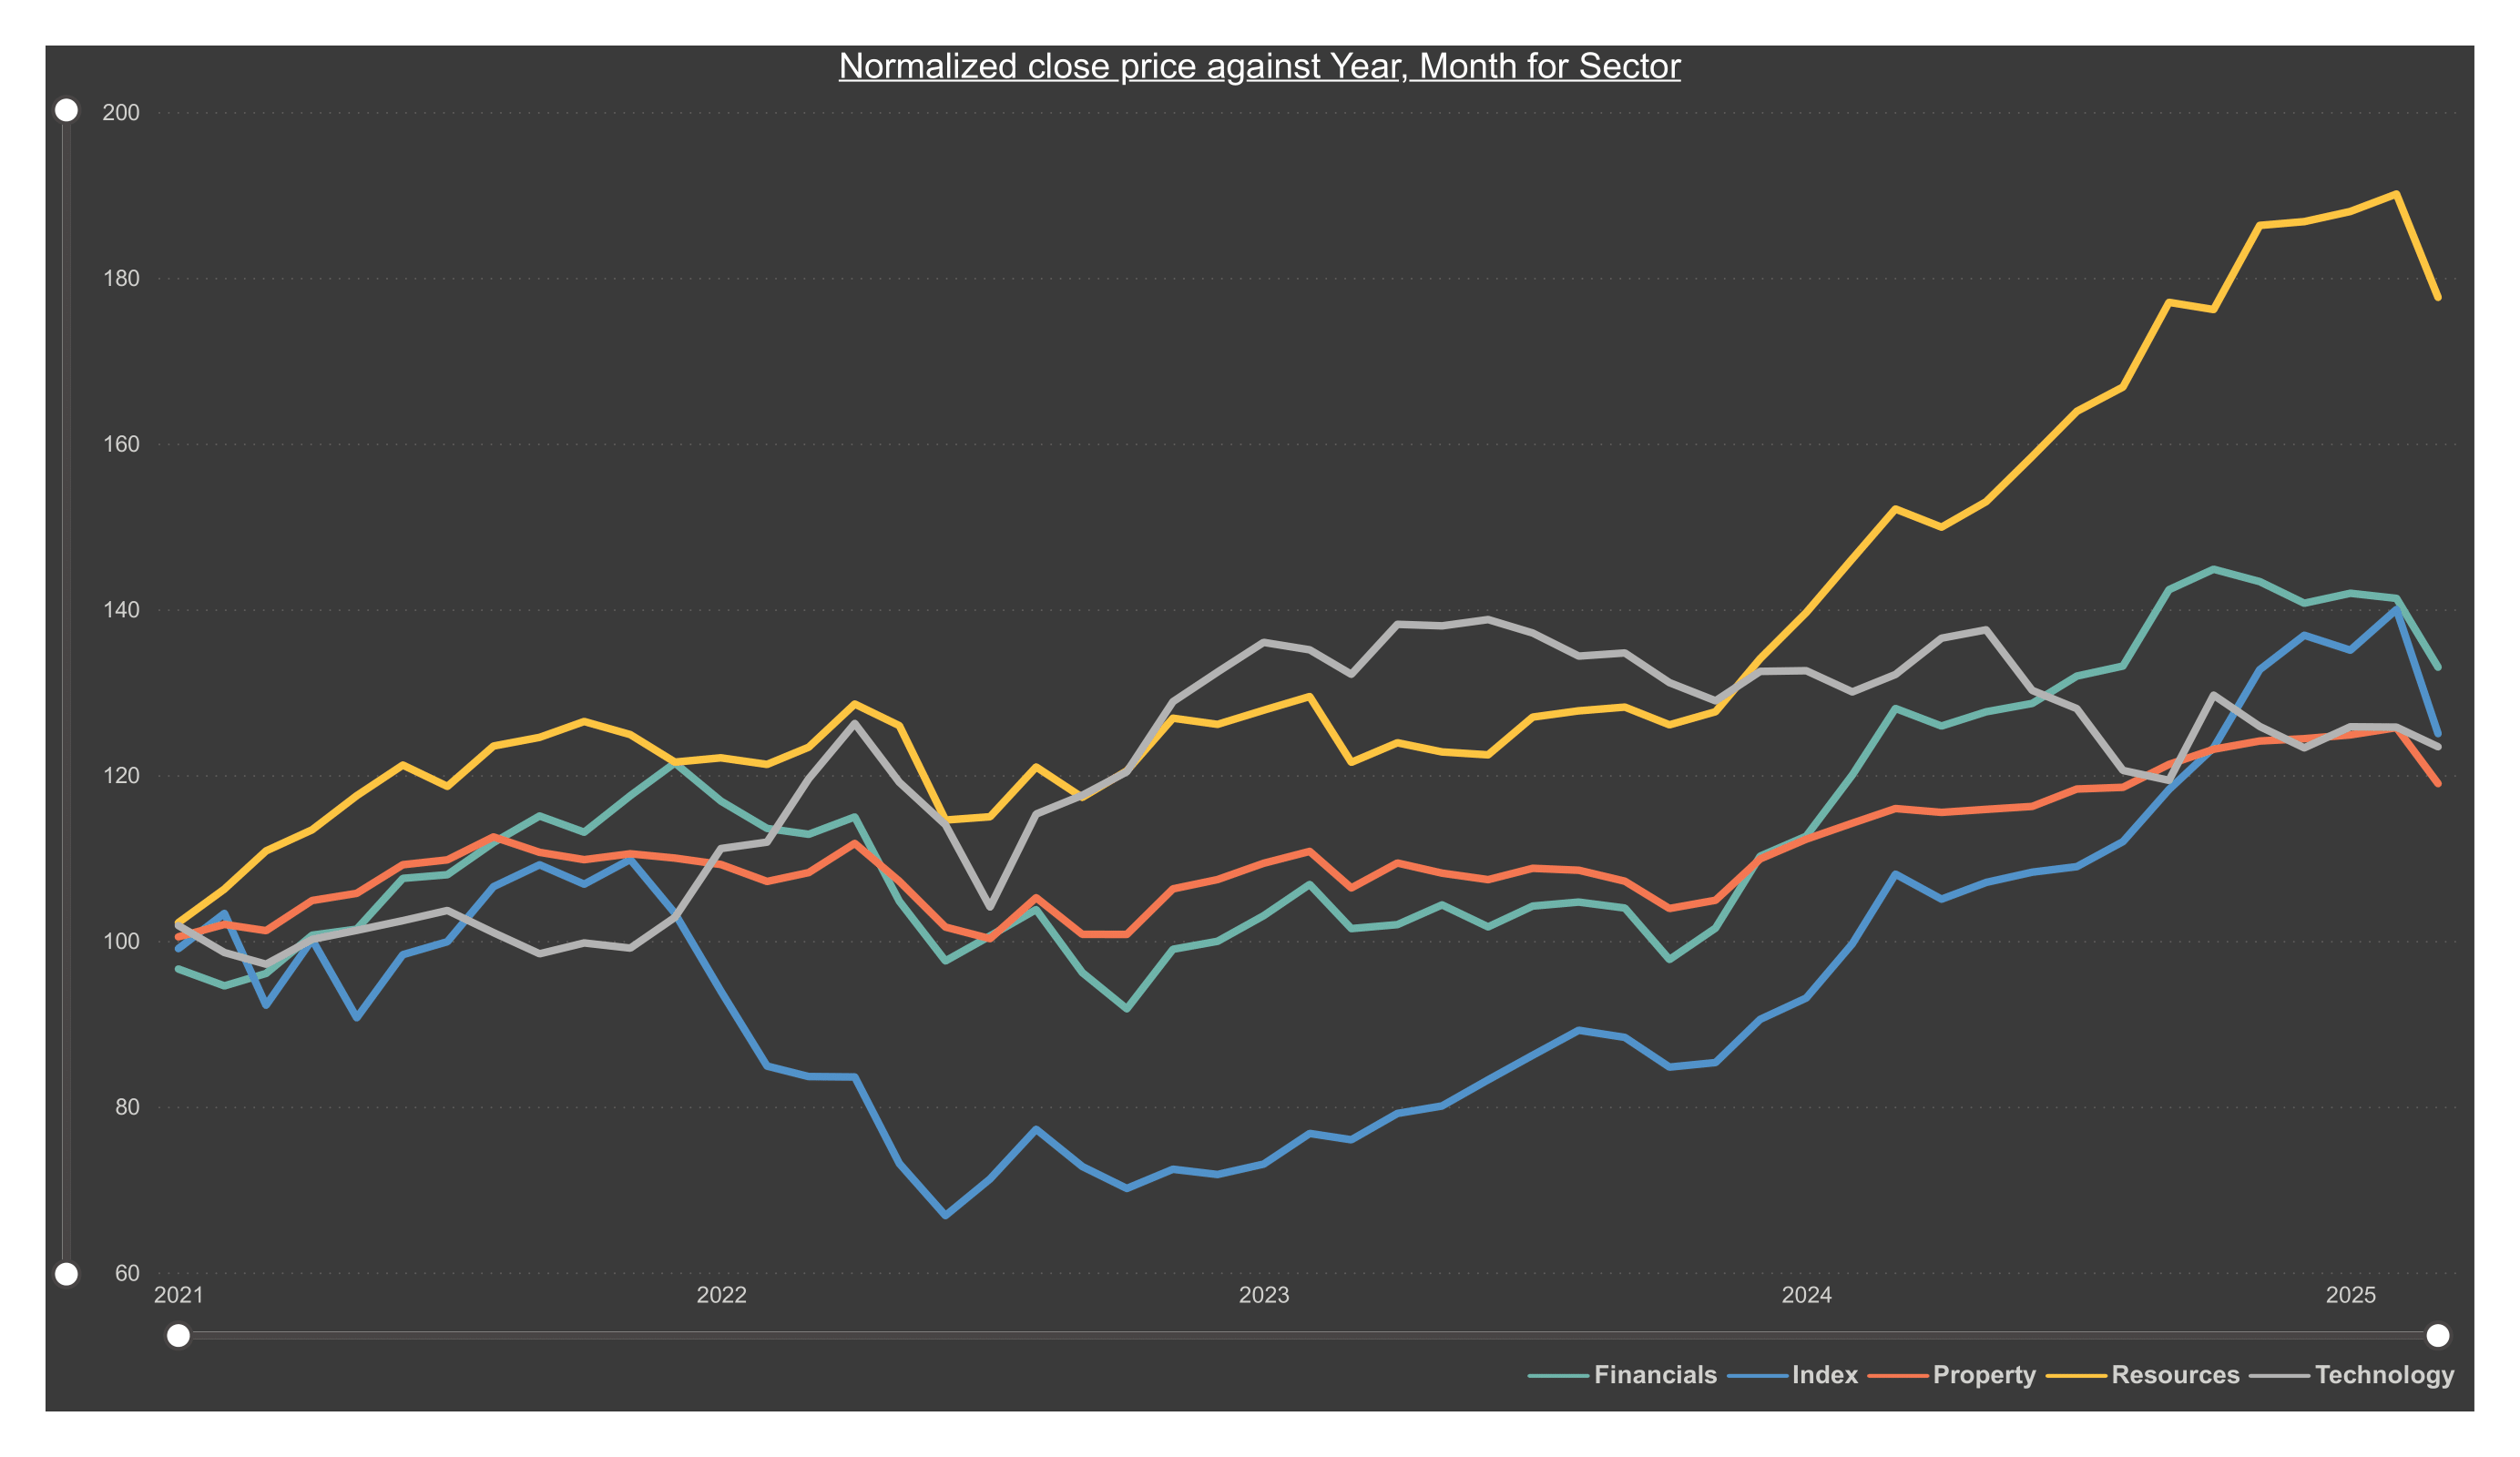

The dashboard page shown, as its layout file describes it:
{"tool":"powerbi","page":{"name":"Line Chart — Normalized Close Over Time","canvas":[1280,720],"ordinal":3},"visuals":[{"type":"lineChart","title":"Normalized close price against Year, Month for Sector","fields":{"Y":["Avg(ASX_Sector_Performance_Daily.Normalized_Close)"],"Series":["ASX_Sector_Performance_Daily.Sector"],"Category":["DateTable.Date.Variation.Date Hierarchy.Year","DateTable.Date.Variation.Date Hierarchy.Quarter","DateTable.Date.Variation.Date Hierarchy.Month"]},"box":[0,0,1280,720],"z":0}]}

Visuals, with their boxes on the page's 1280x720 design canvas (x1, y1, x2, y2). These are canvas units, not pixel positions in the 2520x1457 screenshot, which may show the page scaled, cropped or inside an application window:
"Normalized close price against Year, Month for Sector" lineChart: [0,0,1280,720]
